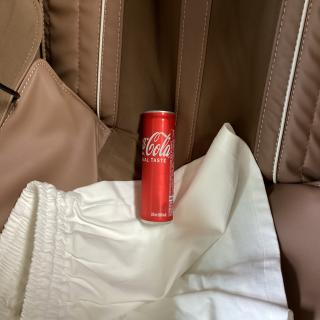cocacola: (137, 103, 179, 227)
